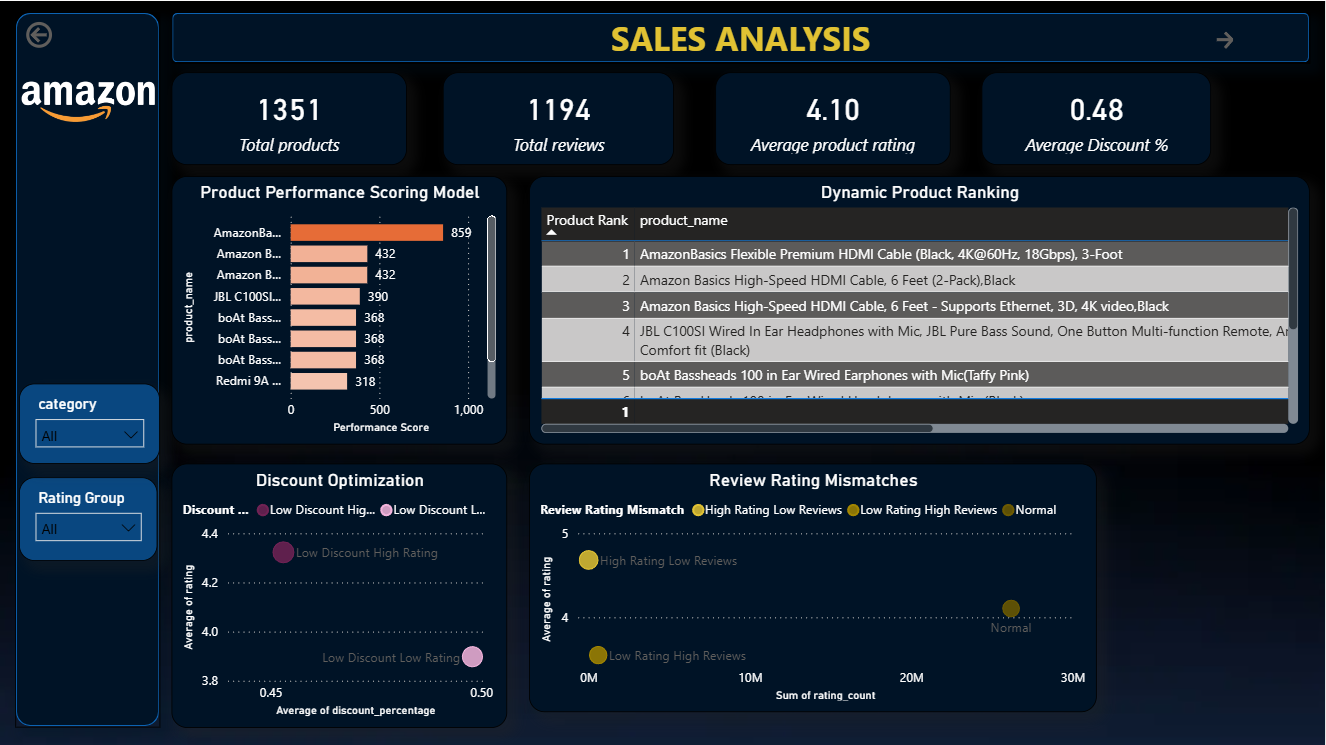

The page's visual inventory and layout, read from the dashboard file:
{"tool":"powerbi","page":{"name":"Advance Analytics","canvas":[1280,720],"ordinal":3},"visuals":[{"type":"shape","title":"AMAZON SALES","box":[166.5,10.9,1099.1,49.5],"z":0},{"type":"shape","title":"AMAZON SALES","box":[15.7,10.9,139.9,690.1],"z":1000},{"type":"card","fields":{"Values":["Count(amazon_sales.product_id)"]},"box":[166.5,68.8,226.8,89.3],"z":2000},{"type":"card","fields":{"Values":["Count(amazon_sales.review_id)"]},"box":[428.3,68.8,223.2,89.3],"z":3000},{"type":"card","fields":{"Values":["Avg(amazon_sales.rating)"]},"box":[691.3,68.8,226.8,89.3],"z":4000},{"type":"card","fields":{"Values":["Avg(amazon_sales.discount_percentage)"]},"box":[948.3,68.8,222,89.3],"z":5000},{"type":"image","box":[21.7,68.8,129.1,56.7],"z":6000},{"type":"slicer","fields":{"Values":["amazon_sales.Rating Group"]},"box":[19.3,459.7,133.9,80.8],"z":7000},{"type":"slicer","fields":{"Values":["amazon_sales.category"]},"box":[19.3,369.2,136.3,77.2],"z":8000},{"type":"clusteredBarChart","title":"Product Performance Scoring Model","fields":{"Y":["amazon_sales.Performance Score"],"Category":["amazon_sales.product_name"]},"box":[166,168.8,323.8,259.3],"z":9000},{"type":"tableEx","title":"Dynamic Product Ranking","fields":{"Values":["amazon_sales.Product Rank","amazon_sales.product_name","amazon_sales.Performance Score","Avg(amazon_sales.rating)","Sum(amazon_sales.rating_count)","Avg(amazon_sales.discount_percentage)"]},"box":[511.8,168.8,753.3,259.3],"z":10000},{"type":"scatterChart","title":"Discount Optimization","fields":{"X":["Avg(amazon_sales.discount_percentage)"],"Y":["Avg(amazon_sales.rating)"],"Size":["Sum(amazon_sales.rating_count)"],"Series":["amazon_sales.Discount Optimization Status"]},"box":[166,446,323.8,255.2],"z":11000},{"type":"scatterChart","title":"Review Rating Mismatches","fields":{"X":["Sum(amazon_sales.rating_count)"],"Y":["Avg(amazon_sales.rating)"],"Series":["amazon_sales.Review Rating Mismatch"],"Size":["Avg(amazon_sales.discount_percentage)"]},"box":[511.5,446.4,547.7,240.1],"z":12000},{"type":"actionButton","box":[22,16,56,34],"z":12001},{"type":"actionButton","box":[1170,25,51,25],"z":12002}]}

Visuals, with their boxes in screenshot pixels (x1, y1, x2, y2), scaled from the page's 1280x720 canvas onto the 1326x745 screenshot:
"AMAZON SALES" shape: {"x1": 172, "y1": 11, "x2": 1311, "y2": 62}
"AMAZON SALES" shape: {"x1": 16, "y1": 11, "x2": 161, "y2": 725}
card - Count(amazon_sales.product_id): {"x1": 172, "y1": 71, "x2": 407, "y2": 164}
card - Count(amazon_sales.review_id): {"x1": 444, "y1": 71, "x2": 675, "y2": 164}
card - Avg(amazon_sales.rating): {"x1": 716, "y1": 71, "x2": 951, "y2": 164}
card - Avg(amazon_sales.discount_percentage): {"x1": 982, "y1": 71, "x2": 1212, "y2": 164}
image: {"x1": 22, "y1": 71, "x2": 156, "y2": 130}
slicer - amazon_sales.Rating Group: {"x1": 20, "y1": 476, "x2": 159, "y2": 559}
slicer - amazon_sales.category: {"x1": 20, "y1": 382, "x2": 161, "y2": 462}
"Product Performance Scoring Model" clusteredBarChart: {"x1": 172, "y1": 175, "x2": 507, "y2": 443}
"Dynamic Product Ranking" tableEx: {"x1": 530, "y1": 175, "x2": 1311, "y2": 443}
"Discount Optimization" scatterChart: {"x1": 172, "y1": 461, "x2": 507, "y2": 726}
"Review Rating Mismatches" scatterChart: {"x1": 530, "y1": 462, "x2": 1097, "y2": 710}
actionButton: {"x1": 23, "y1": 17, "x2": 81, "y2": 52}
actionButton: {"x1": 1212, "y1": 26, "x2": 1265, "y2": 52}
